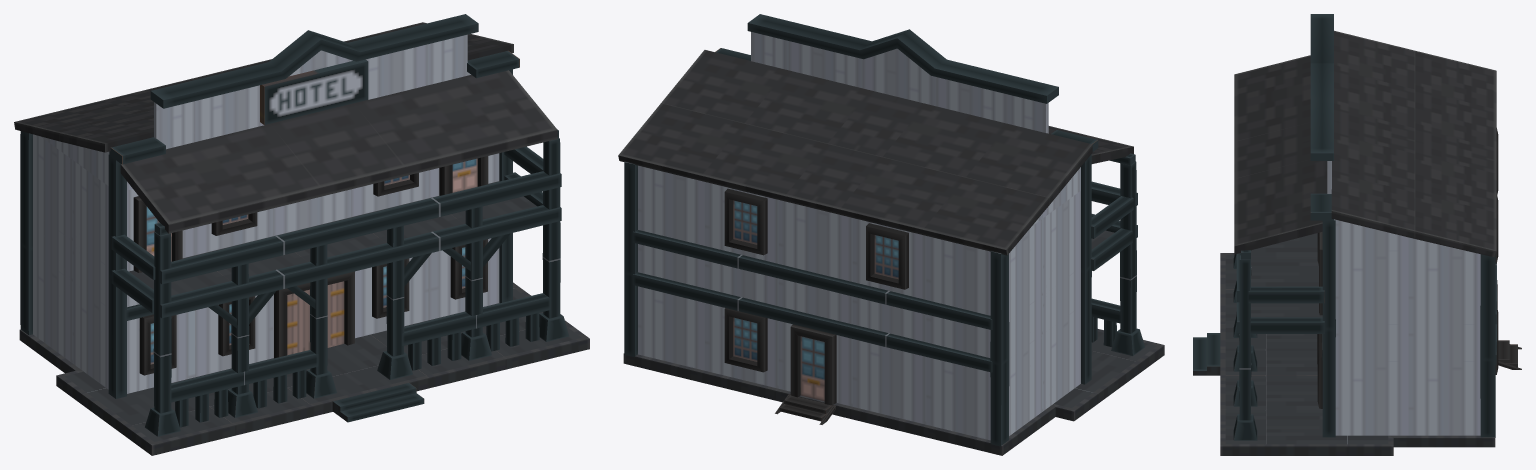
File: house_v1_009.fbx
3 renders of one model, left to right at view 1: azimuth 30°, elevation 25°; view 2: azimuth 150°, elevation 25°; view 3: azimuth 270°, elevation 25°, orthographic. The views are drawn at different scales.
Parts seen in each view (by area): view 1: house_v1_009; view 2: house_v1_009; view 3: house_v1_009.
Part boxes in pixels (bbox=[...]): house_v1_009: bbox=[14, 14, 589, 455]; house_v1_009: bbox=[618, 14, 1164, 455]; house_v1_009: bbox=[1193, 14, 1521, 455].
Bounding box in the file's own units: 1126 × 802 × 808.
